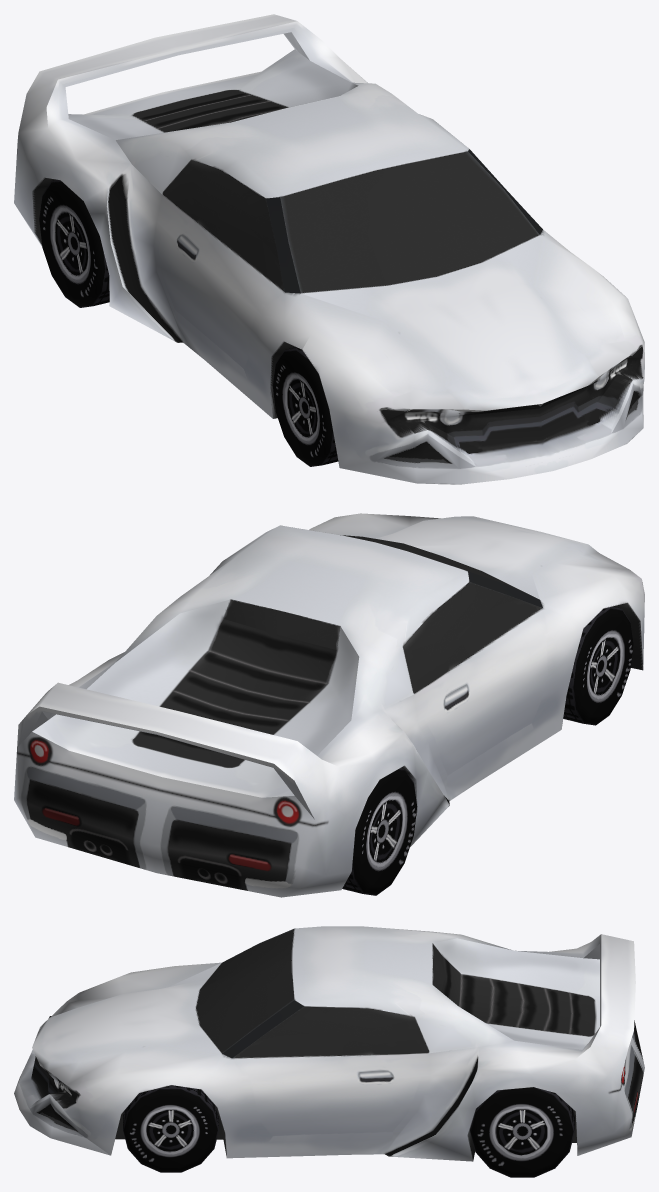
File: Minari.fbx
The picture shows the model from 3 angles, top to bottom: view 1: azimuth 30°, elevation 25°; view 2: azimuth 150°, elevation 25°; view 3: azimuth 270°, elevation 25°; orthographic projection. The views are drawn at different scales.
Parts seen in each view (by area): view 1: MinariBody, WheelBR, WheelFR; view 2: MinariBody, WheelBR, WheelFR; view 3: MinariBody, WheelBL, WheelFL.
Part boxes in pixels (x1,y1,x2,y2): MinariBody: [14, 14, 644, 484]; WheelBR: [39, 179, 109, 307]; WheelFR: [272, 347, 338, 466]; MinariBody: [14, 513, 644, 897]; WheelBR: [342, 768, 417, 895]; WheelFR: [563, 606, 633, 725]; MinariBody: [14, 926, 644, 1161]; WheelBL: [470, 1087, 574, 1177]; WheelFL: [123, 1085, 218, 1172].
Size of the model in its own units: 209 by 129 by 451.
